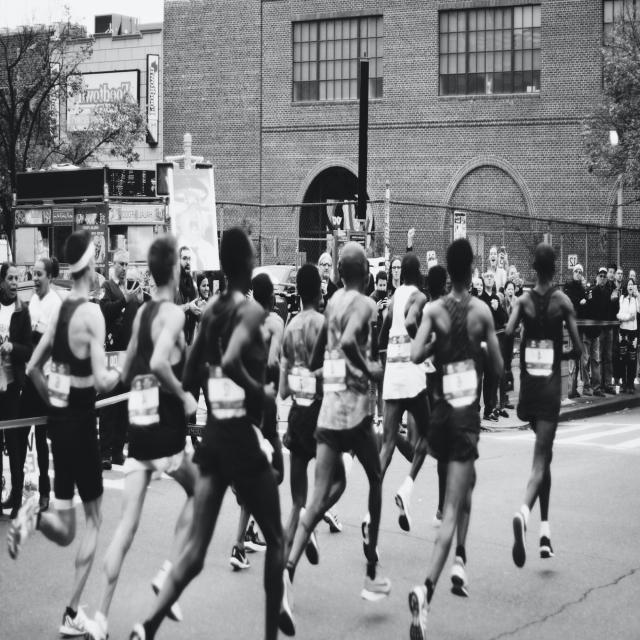adult: (136, 223, 282, 640), (8, 227, 123, 639), (85, 233, 200, 640), (277, 241, 393, 636), (409, 237, 502, 640), (506, 243, 580, 566), (362, 252, 426, 564), (286, 261, 332, 560), (102, 246, 143, 355), (566, 262, 592, 396), (591, 269, 612, 393), (619, 277, 640, 388), (175, 245, 198, 303), (319, 249, 341, 298), (488, 244, 508, 292), (371, 268, 390, 307), (503, 282, 518, 320), (484, 269, 498, 308), (388, 253, 402, 290), (508, 263, 523, 297), (197, 272, 214, 301)
